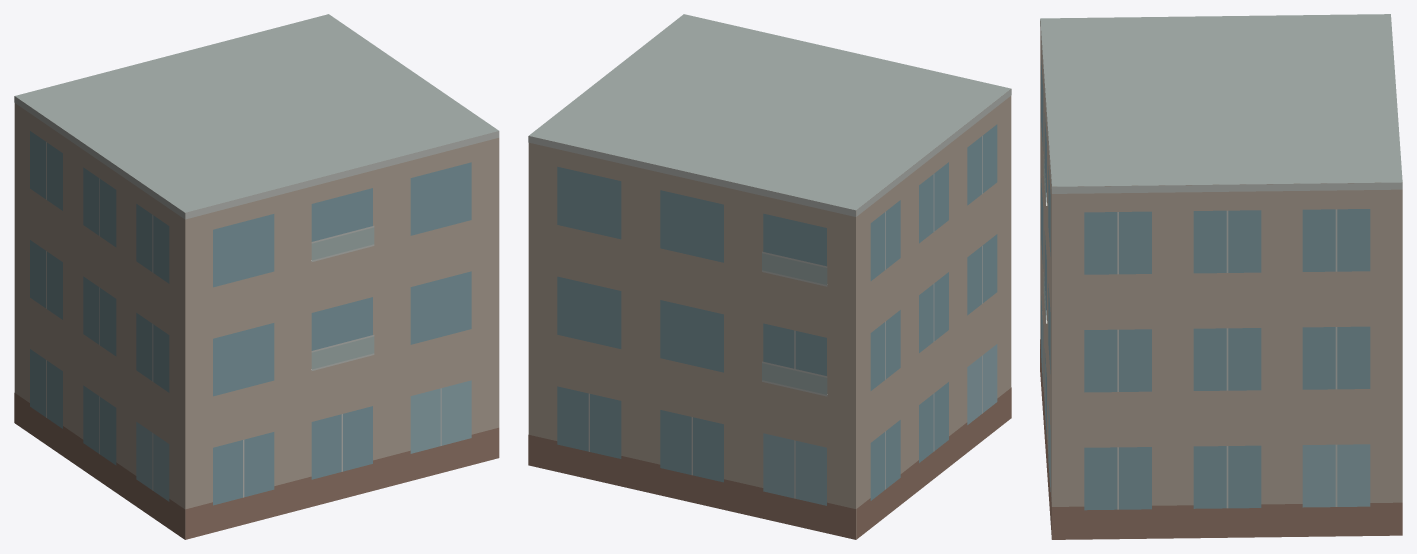
Rendered from survey-upis-32718335.glb.
3 renders of one model, left to right at view 1: azimuth 30°, elevation 25°; view 2: azimuth 150°, elevation 25°; view 3: azimuth 270°, elevation 25°, orthographic. The views are drawn at different scales.
Visible parts, largest first — view 1: survey-upis-32718335.tmp; view 2: survey-upis-32718335.tmp; view 3: survey-upis-32718335.tmp.
Boxes of the visible parts, <box> form: survey-upis-32718335.tmp: <box>14,14,499,539</box>; survey-upis-32718335.tmp: <box>528,14,1011,539</box>; survey-upis-32718335.tmp: <box>1040,14,1402,539</box>.
Size of the model in its own units: 12.5 by 11.9 by 11.08.
